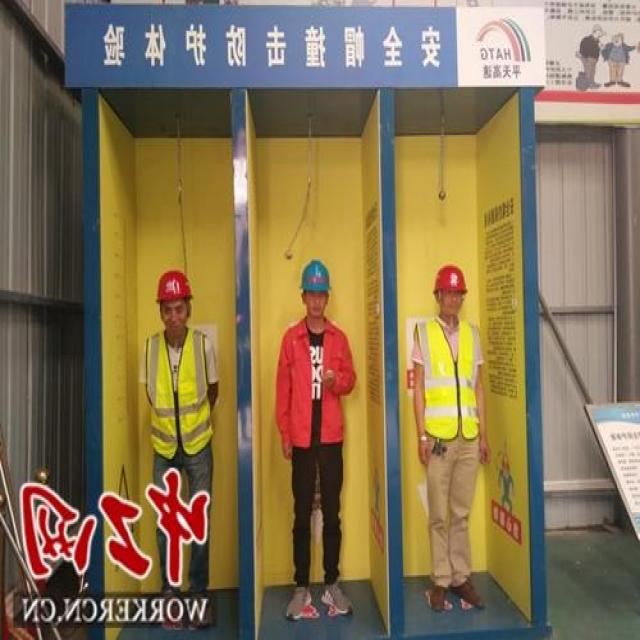Reflective-Jacket: (142, 324, 216, 462), (416, 316, 484, 447)
Safety-Helmet: (153, 266, 195, 306), (297, 258, 331, 294), (432, 263, 468, 297)
